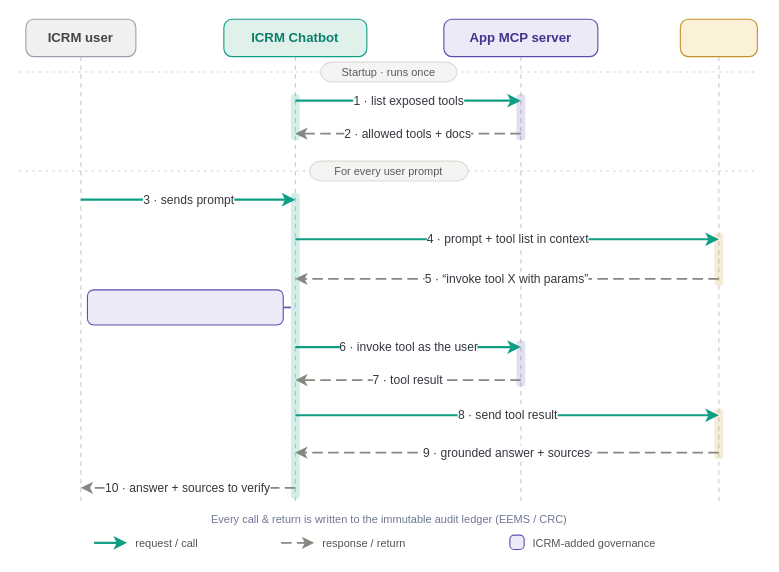
Some shapes in this 779 by 572 pixel diagram are drawn without their labels. The shapes that lost their labels are listed below. From the top down, each one's centre as x and y in pixels, then its label:
point (718, 37): LLM
point (184, 307): Entitlement check (CRC) on the user's behalf · least privilege
